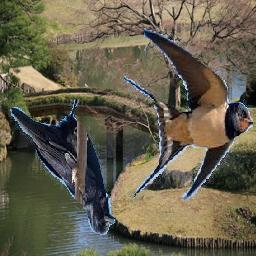Crow: (11, 99, 116, 235)
Swallow: (121, 29, 253, 202)
